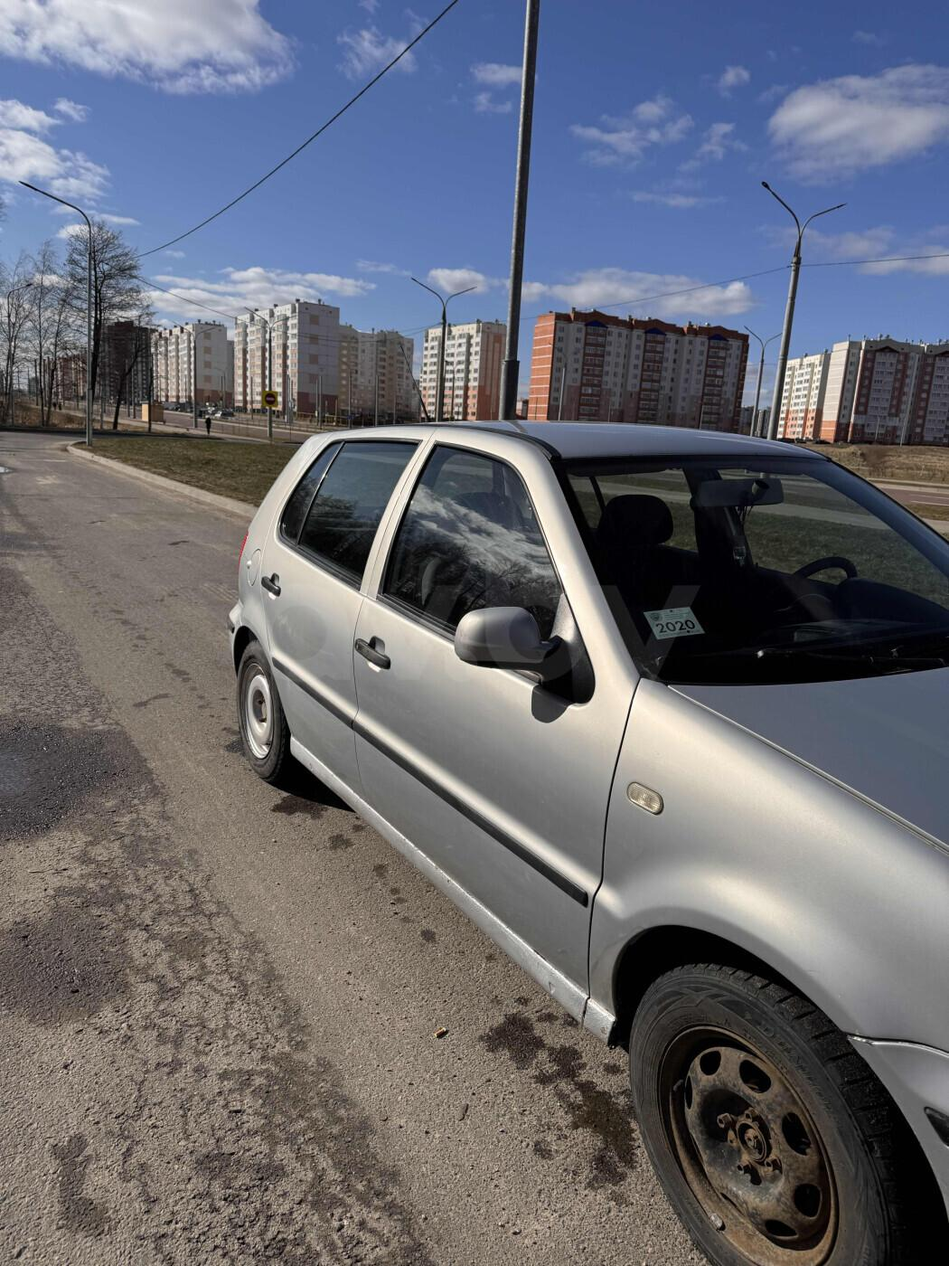Polo_2000-2002: (203, 410, 949, 1242)
